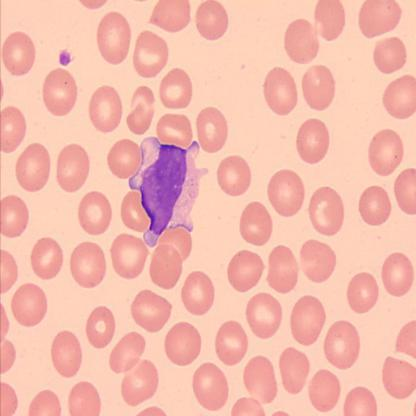Atypical lymphocyte: (130, 135, 200, 242)
